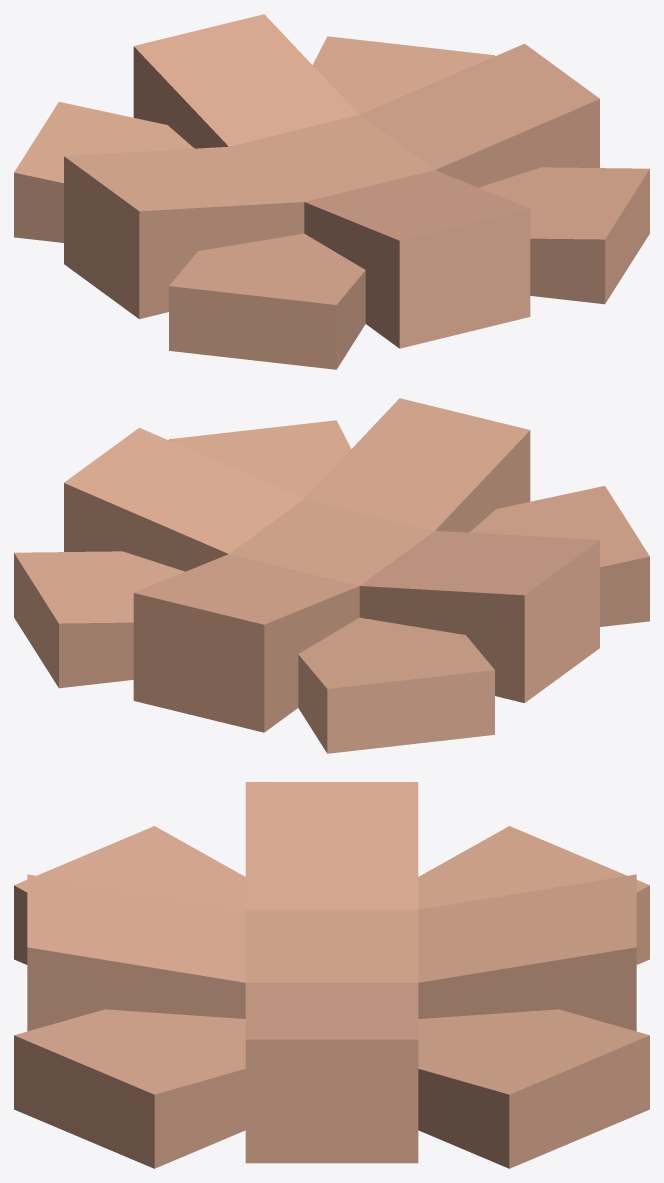
The model's file is campfire_logs.glb.
3 renders of one model, top to bottom at view 1: azimuth 30°, elevation 25°; view 2: azimuth 150°, elevation 25°; view 3: azimuth 270°, elevation 25°, orthographic. The views are drawn at different scales.
Parts seen in each view (by area): view 1: campfire_logs; view 2: campfire_logs; view 3: campfire_logs.
Boxes of the visible parts, x1=… form: campfire_logs: x1=14, y1=14, x2=649, y2=369; campfire_logs: x1=14, y1=398, x2=649, y2=753; campfire_logs: x1=14, y1=782, x2=649, y2=1168.
Bounding box in the file's own units: 0.2919 × 0.0626 × 0.2919.
